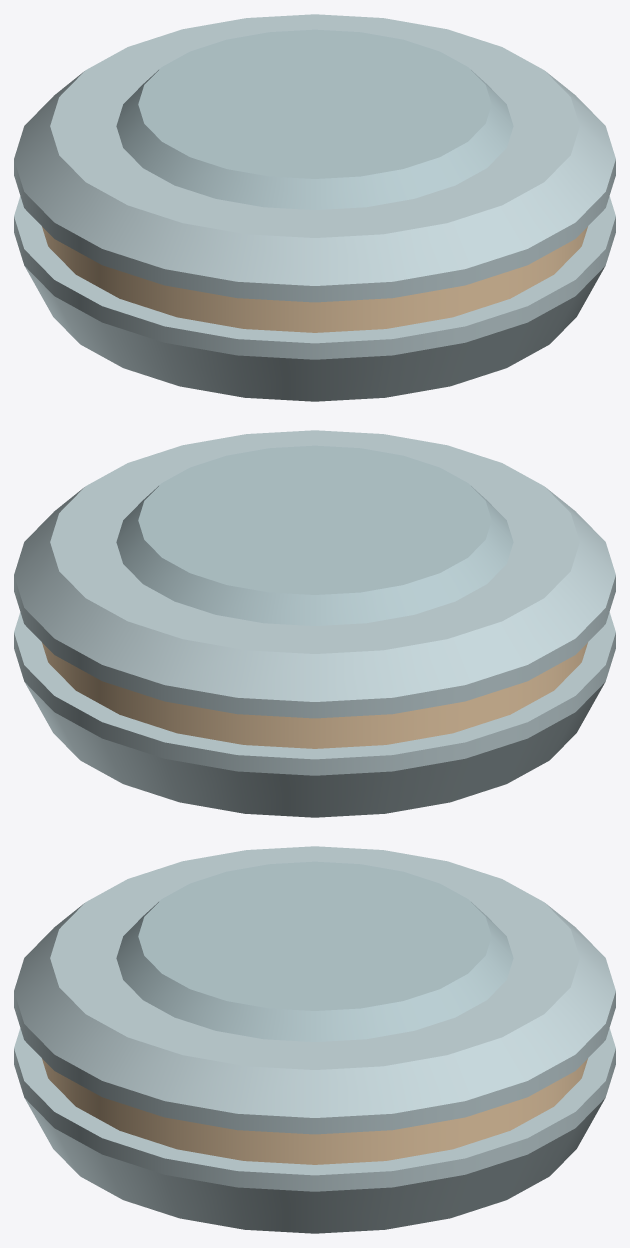
3 views of the same model, one above another, from view 1: azimuth 30°, elevation 25°; view 2: azimuth 150°, elevation 25°; view 3: azimuth 270°, elevation 25° (orthographic).
Parts seen in each view (by area): view 1: base; view 2: base; view 3: base.
Part boxes in pixels (<box>): base: <box>14,14,615,401</box>; base: <box>14,430,615,817</box>; base: <box>14,846,615,1233</box>.
Size of the model in its own units: 100 by 33.5 by 100.
